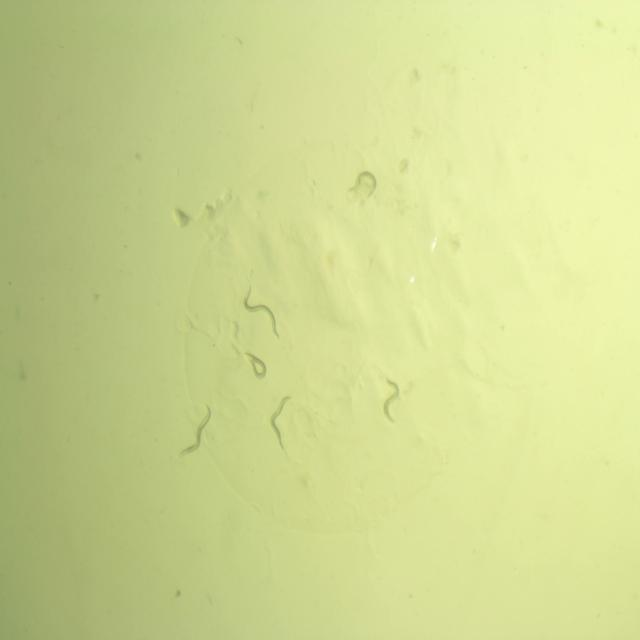worm: (240, 280, 283, 345), (173, 398, 214, 464), (266, 392, 299, 456), (378, 373, 405, 427), (345, 166, 380, 202), (241, 346, 268, 383)
